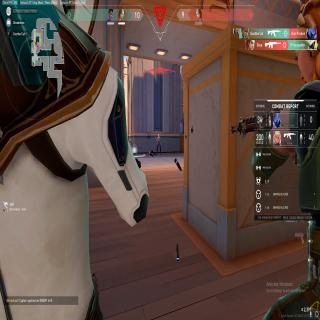ENEMY-BODY: (156, 132, 162, 156)
ENEMY-HEAD: (158, 133, 160, 138)
